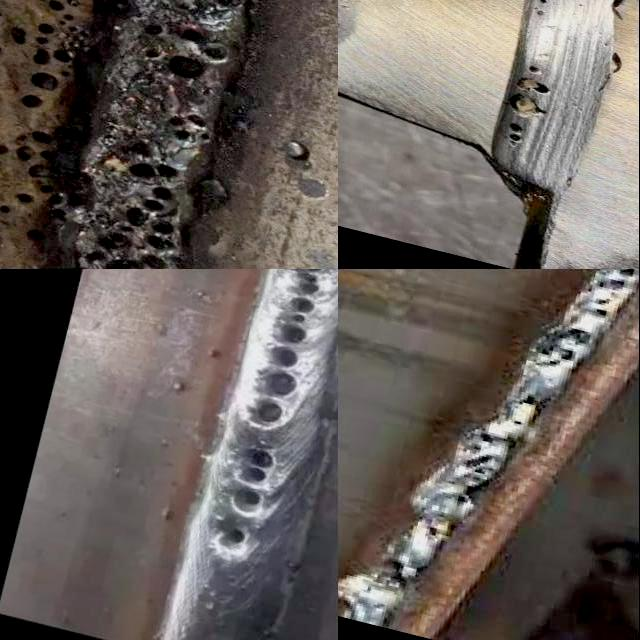defect: (253, 269, 334, 428), (79, 156, 190, 269), (0, 122, 86, 248), (0, 0, 90, 114), (133, 15, 239, 90), (227, 445, 281, 521), (451, 428, 504, 488), (507, 61, 555, 121), (533, 325, 595, 371), (168, 109, 224, 157), (591, 269, 640, 321), (385, 558, 415, 595), (503, 122, 531, 148), (446, 491, 475, 515), (218, 526, 245, 549), (512, 393, 541, 411), (423, 523, 443, 540), (534, 0, 551, 7), (512, 419, 525, 427), (537, 9, 545, 17)
